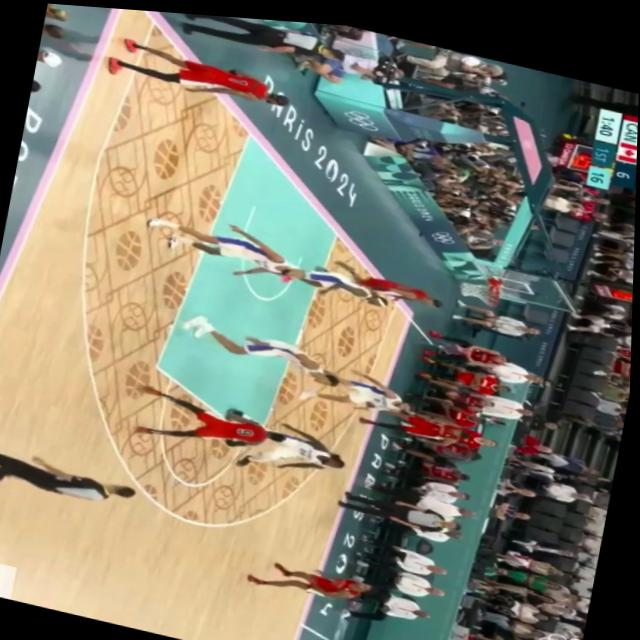ball_handler: (135, 384, 290, 463)
